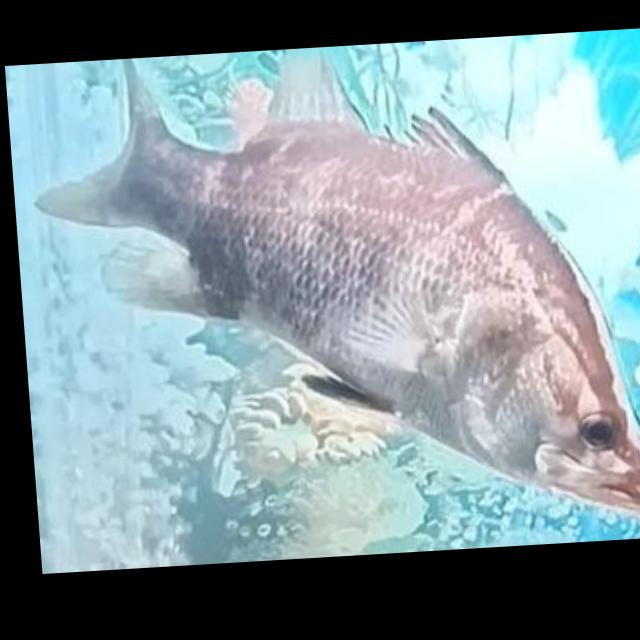Seabass: (26, 29, 640, 557)
